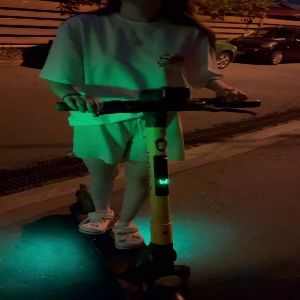human on a scooter: (39, 1, 262, 300)
